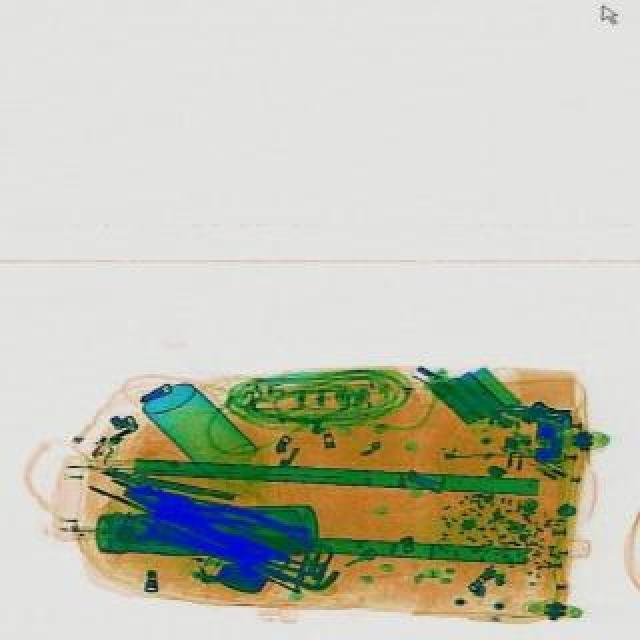scissors: (126, 514, 228, 564)
wrench: (114, 468, 308, 570)
